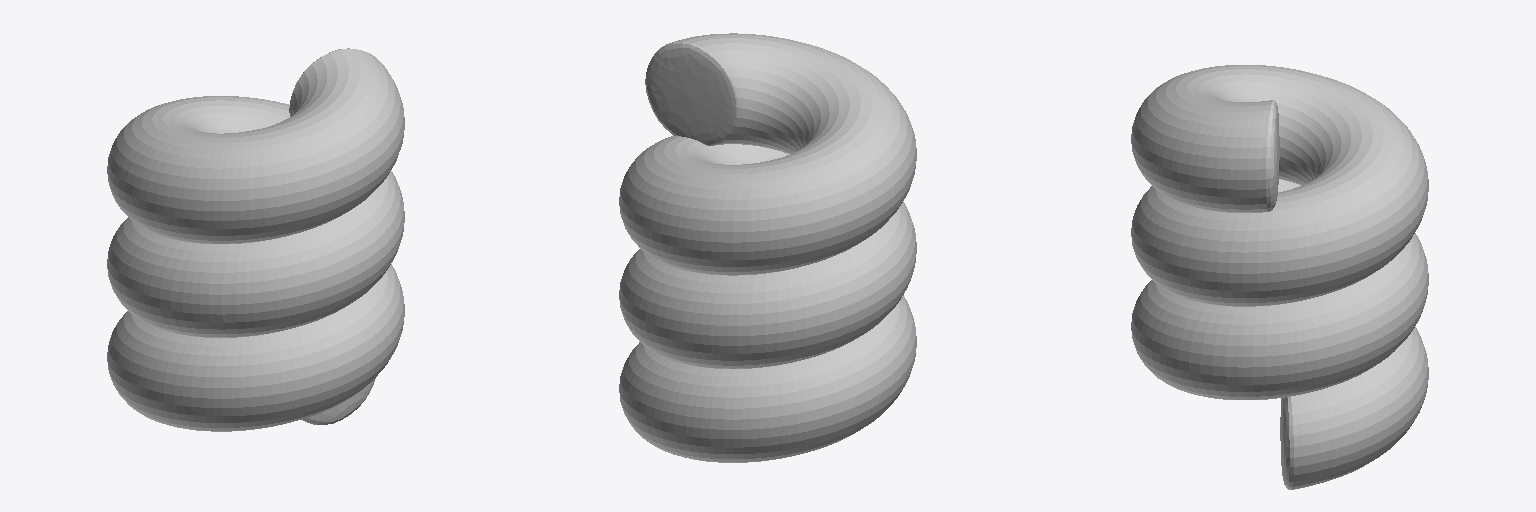
Rendered from helix_52.5.obj.
3 views of the same model, side by side, from view 1: azimuth 30°, elevation 25°; view 2: azimuth 150°, elevation 25°; view 3: azimuth 270°, elevation 25° (orthographic).
Visible parts, largest first — view 1: helix:pHelix1; view 2: helix:pHelix1; view 3: helix:pHelix1.
Boxes of the visible parts, x1=… form: helix:pHelix1: x1=107, y1=48, x2=404, y2=431; helix:pHelix1: x1=619, y1=33, x2=916, y2=462; helix:pHelix1: x1=1131, y1=65, x2=1428, y2=489.
Size of the model in its own units: 1.92 by 2.71 by 1.92.